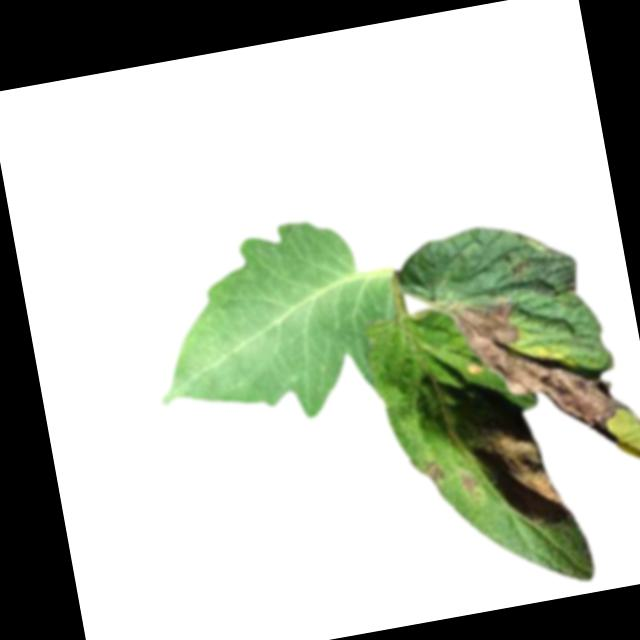Late_blight: (445, 276, 635, 469), (477, 412, 573, 534), (419, 457, 449, 488), (456, 467, 478, 503)
healthy: (129, 204, 418, 447)
